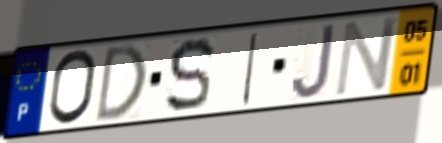D: (92, 41, 149, 126)
I: (238, 29, 262, 109)
J: (289, 20, 337, 101)
N: (332, 14, 401, 99)
O: (46, 47, 99, 128)
S: (163, 35, 217, 116)
